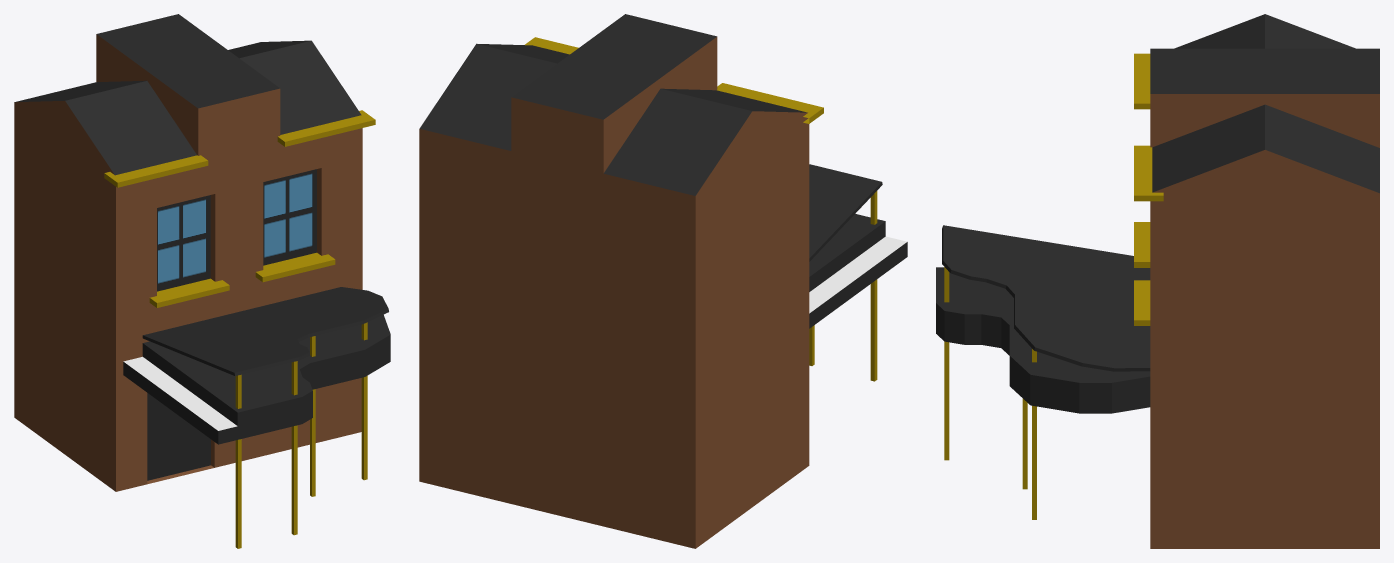
File: JazzPiano1.obj
3 views of the same model, side by side, from view 1: azimuth 30°, elevation 25°; view 2: azimuth 150°, elevation 25°; view 3: azimuth 270°, elevation 25° (orthographic). The views are drawn at different scales.
Visible parts, largest first — view 1: PianionoJazzDONE; view 2: PianionoJazzDONE; view 3: PianionoJazzDONE.
Part boxes in pixels (x1=…): PianionoJazzDONE: x1=14, y1=14, x2=390, y2=548; PianionoJazzDONE: x1=419, y1=14, x2=907, y2=548; PianionoJazzDONE: x1=936, y1=14, x2=1379, y2=548.
Bounding box in the file's own units: 7.32 × 9.85 × 9.67.
